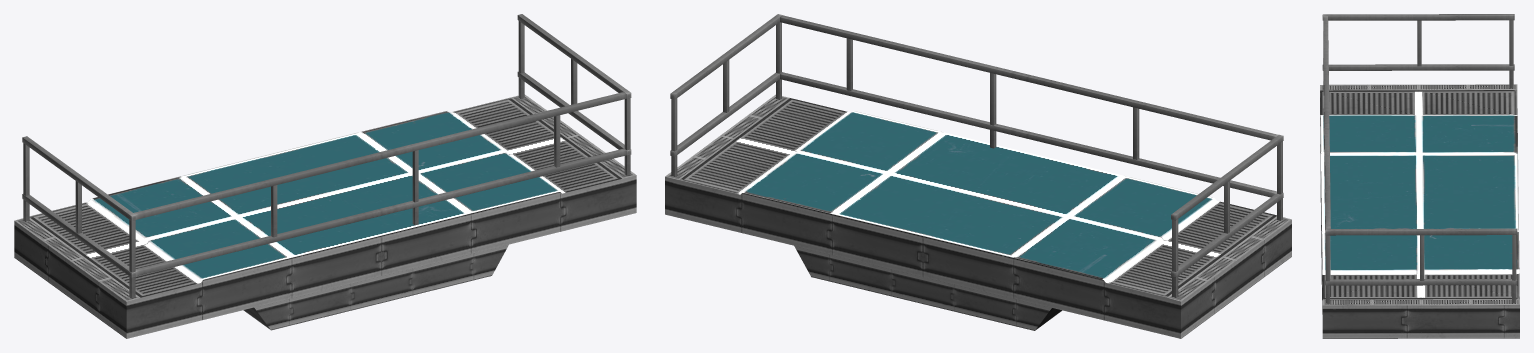
The model's file is ARC1110046.fbx.
3 views of the same model, side by side, from view 1: azimuth 30°, elevation 25°; view 2: azimuth 150°, elevation 25°; view 3: azimuth 270°, elevation 25° (orthographic). The views are drawn at different scales.
Visible parts, largest first — view 1: smARC1110046; view 2: smARC1110046; view 3: smARC1110046.
Boxes of the visible parts, box(x1,y1,x2,y2) form: smARC1110046: box(14, 14, 636, 338); smARC1110046: box(665, 14, 1291, 338); smARC1110046: box(1320, 14, 1519, 338).
Size of the model in its own units: 530 by 145 by 202.
Materials: 1 (1 with a texture image).
